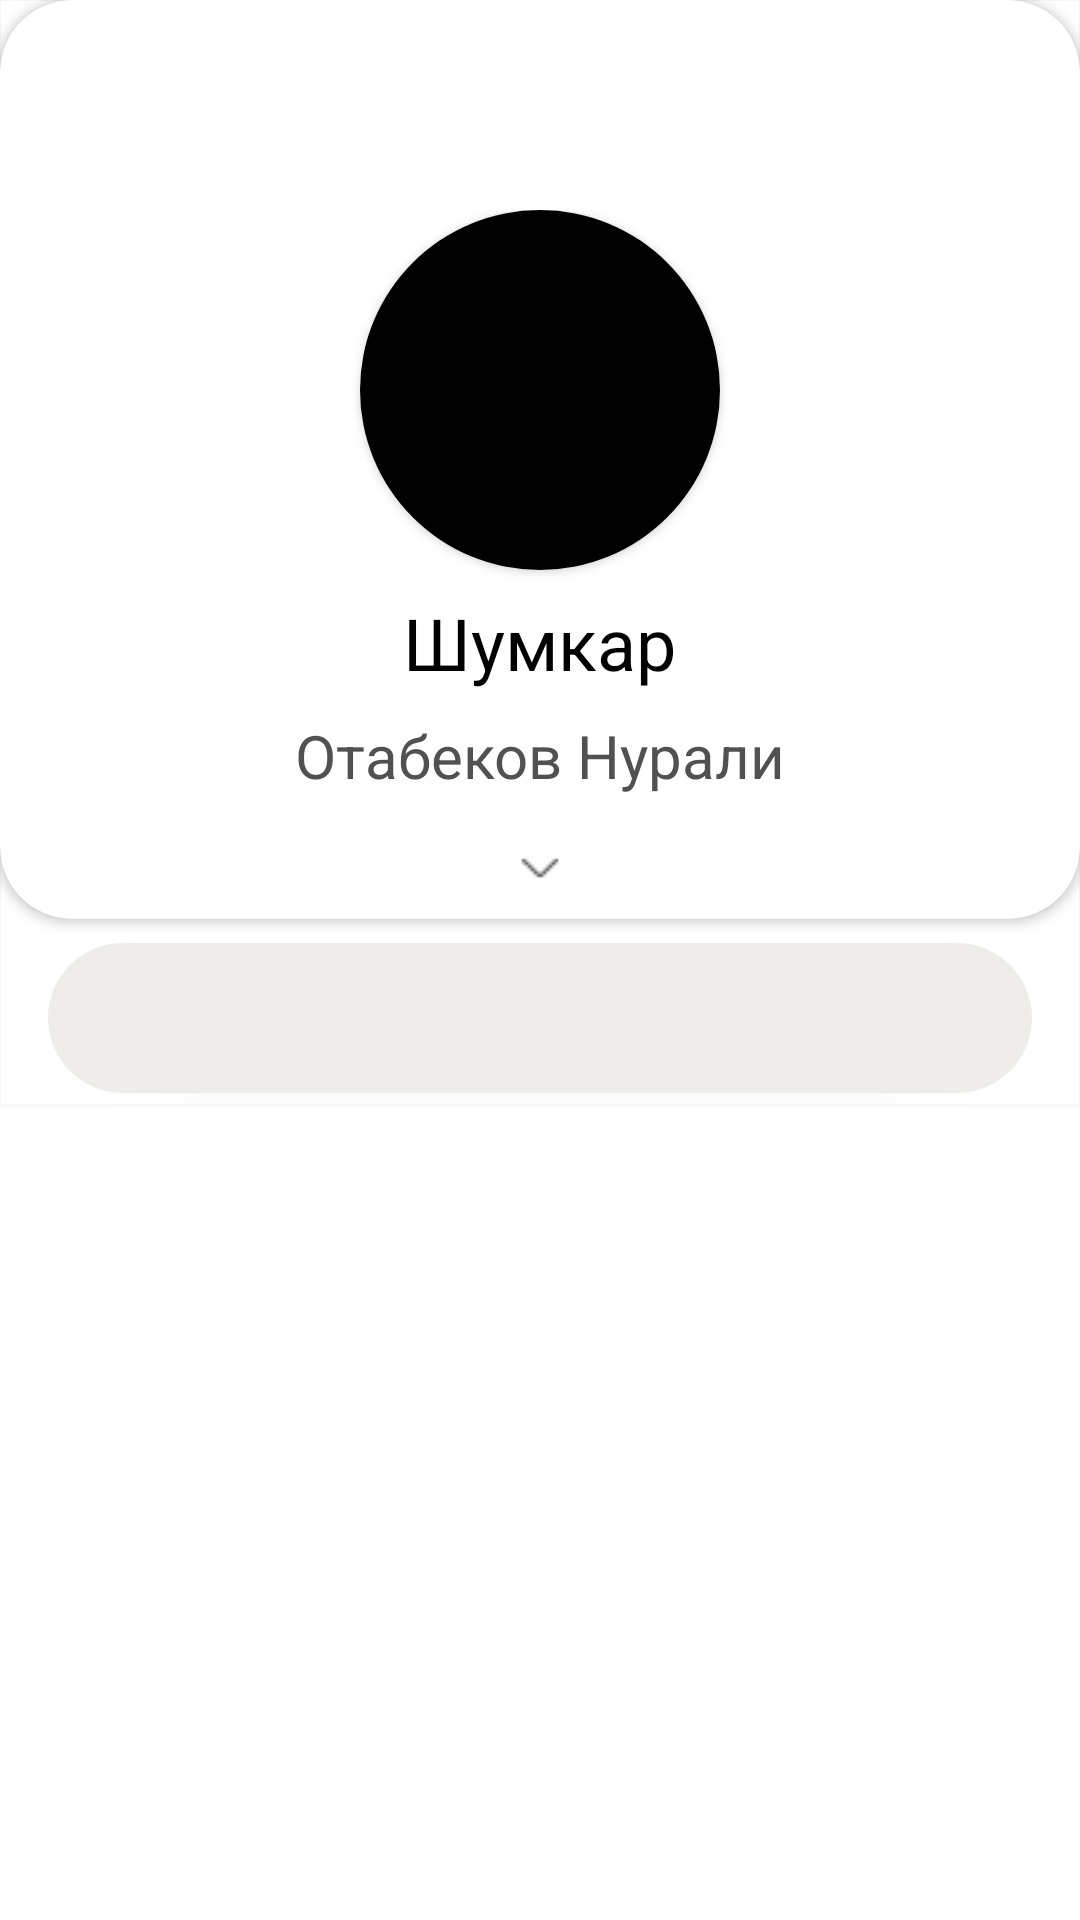

Screen size 1080 × 1920. Icon name, then its center in pixels as point (x, y):
arrow down: point (540, 868)
